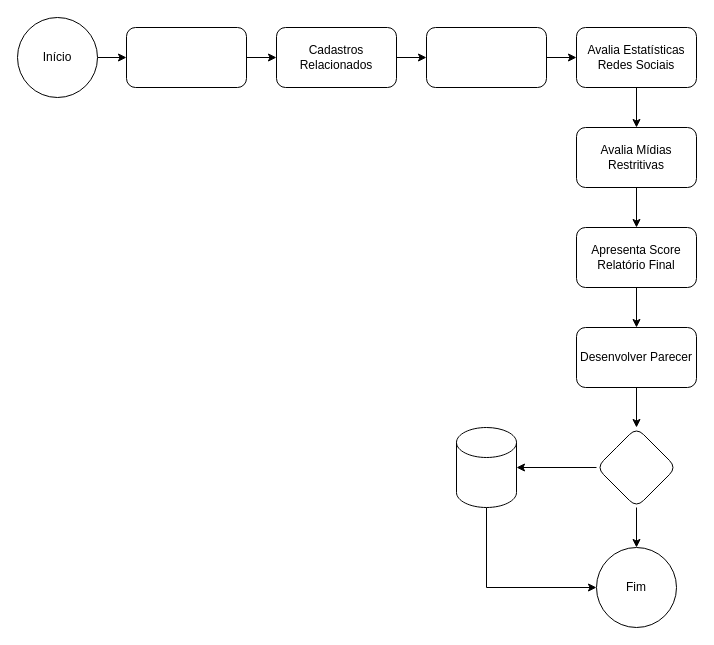
This 714x645 diagram has some shape labels left out. Each missing label, with the box of its shape:
Armazenar?: (596, 426, 676, 508)
Avalia Presença nas Listas Restritivas: (426, 26, 546, 88)
Criar Perfil: (126, 26, 246, 88)
